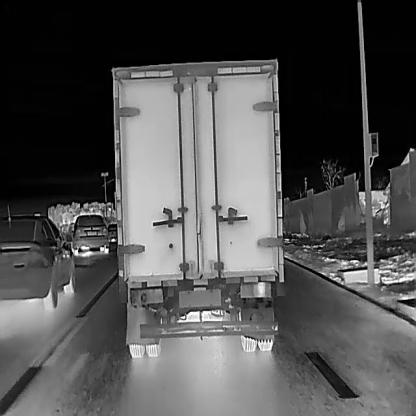car: (0, 203, 75, 310), (70, 212, 110, 255)
truck: (111, 55, 284, 359)
